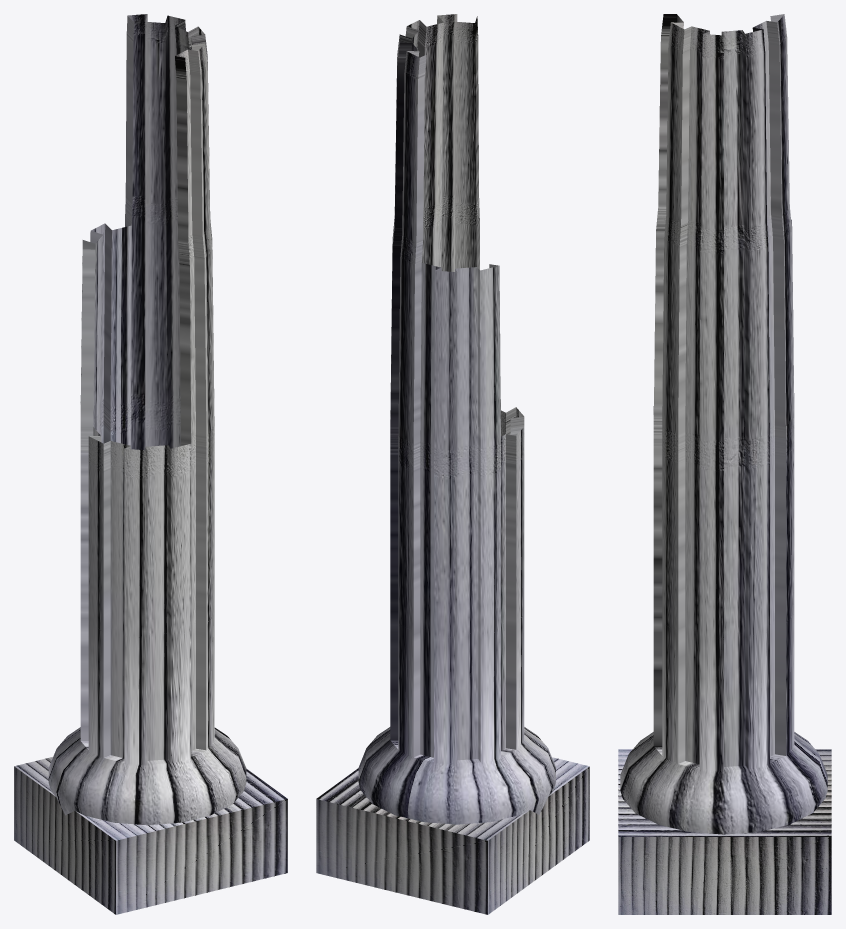
The model's file is Level 2 Broken Pillar.fbx.
The picture shows the model from 3 angles, left to right: view 1: azimuth 30°, elevation 25°; view 2: azimuth 150°, elevation 25°; view 3: azimuth 270°, elevation 25°; orthographic projection. The views are drawn at different scales.
Parts seen in each view (by area): view 1: Cylinder001; view 2: Cylinder001; view 3: Cylinder001.
Part boxes in pixels (x1,y1,x2,y2): Cylinder001: (14,14,287,914); Cylinder001: (316,14,589,914); Cylinder001: (618,14,831,914).
Bounding box in the file's own units: 21.98 × 97.31 × 21.92.
Materials: 1 (1 with a texture image).
